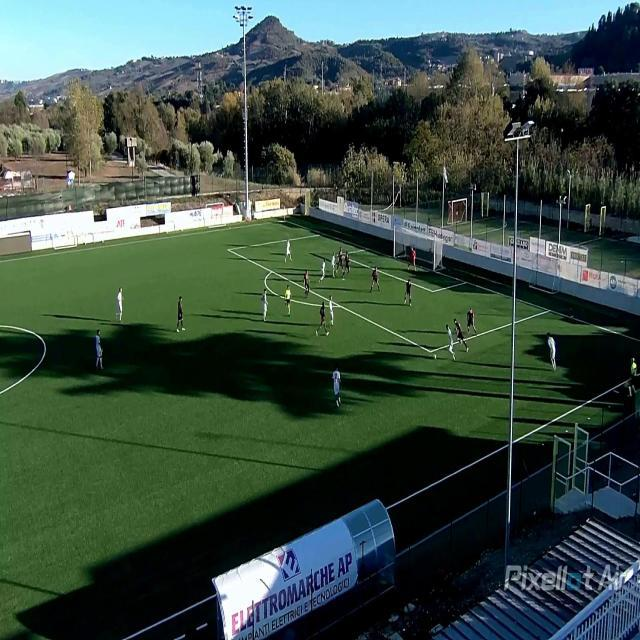arbitro: (284, 286, 292, 314)
football: (432, 354, 438, 360)
goleiro: (409, 248, 416, 270)
jogador: (444, 324, 457, 360), (454, 320, 468, 350), (332, 367, 342, 407), (547, 334, 557, 370), (176, 297, 186, 332), (95, 331, 103, 370), (466, 308, 477, 334), (115, 288, 123, 321), (370, 268, 381, 291), (260, 291, 268, 322), (318, 302, 327, 328), (404, 280, 412, 304), (284, 240, 292, 262), (328, 297, 334, 325), (303, 271, 310, 295), (343, 253, 351, 274), (331, 254, 338, 276), (320, 261, 326, 281), (338, 247, 343, 269)
